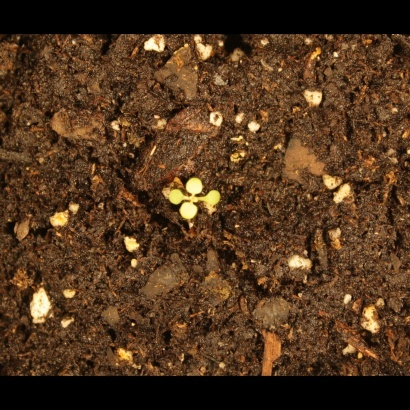leaf: (203, 187, 226, 210), (182, 172, 205, 195), (162, 185, 185, 208), (180, 204, 203, 227)
